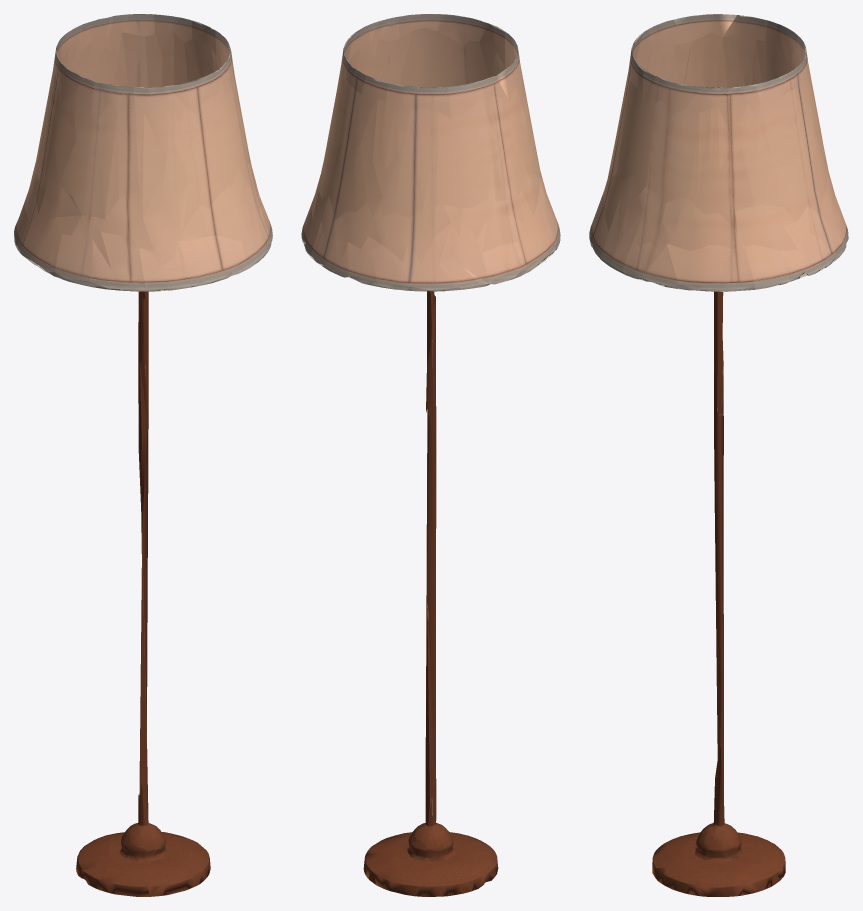
Rendered from floor_lamp.glb.
3 renders of one model, left to right at view 1: azimuth 30°, elevation 25°; view 2: azimuth 150°, elevation 25°; view 3: azimuth 270°, elevation 25°, orthographic.
Visible parts, largest first — view 1: Mesh_0; view 2: Mesh_0; view 3: Mesh_0.
Boxes of the visible parts, x1,y1,x2,y2 form: Mesh_0: [14, 14, 272, 896]; Mesh_0: [301, 14, 560, 896]; Mesh_0: [589, 14, 848, 896].
Bounding box in the file's own units: 0.5435 × 1.9 × 0.5454.
Materials: 1 (1 with a texture image).
